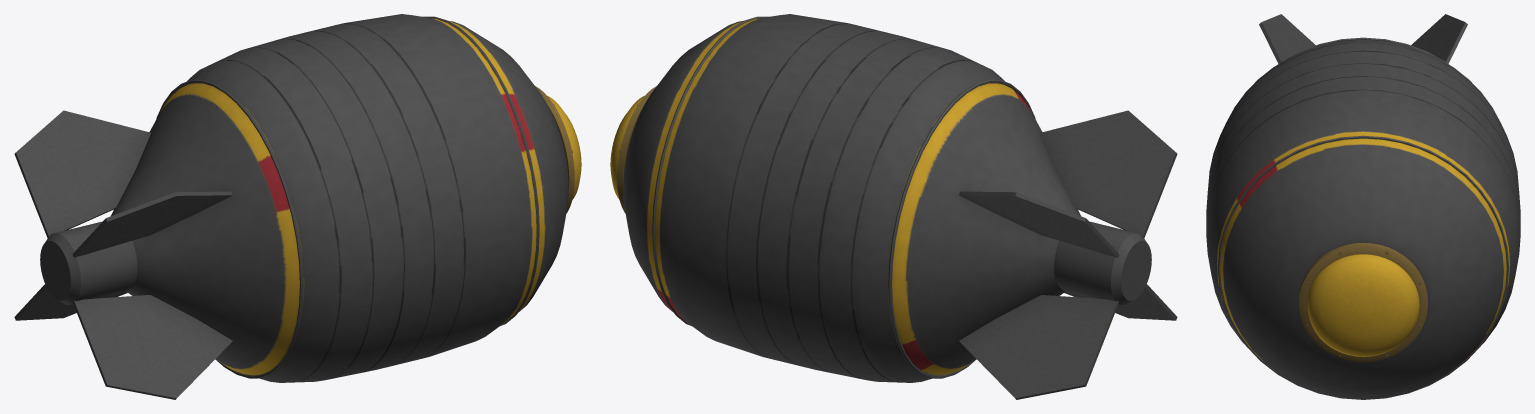
The model's file is bomb.glb.
3 views of the same model, side by side, from view 1: azimuth 30°, elevation 25°; view 2: azimuth 150°, elevation 25°; view 3: azimuth 270°, elevation 25° (orthographic). The views are drawn at different scales.
Parts seen in each view (by area): view 1: bomb_MaterialGroup_03, bomb_MaterialGroup_02.002, bomb_MaterialGroup_02.004, bomb_MaterialGroup_02, bomb_MaterialGroup_02.003, Curved casing band, bomb_MaterialGroup_02.001, Curved casing band.001, bomb_MaterialGroup_01, bomb_MaterialGroup_00; view 2: bomb_MaterialGroup_03, bomb_MaterialGroup_02.001, bomb_MaterialGroup_02.003, bomb_MaterialGroup_02, bomb_MaterialGroup_02.004, Curved casing band, bomb_MaterialGroup_02.002, Curved casing band.001, bomb_MaterialGroup_01, bomb_MaterialGroup_00; view 3: bomb_MaterialGroup_03, bomb_MaterialGroup_00, bomb_MaterialGroup_01, Curved casing band.001, bomb_MaterialGroup_02.003, bomb_MaterialGroup_02.004, Curved casing band.
Part boxes in pixels (left/top/right/bottom): bomb_MaterialGroup_03: left=110, top=14, right=568, bottom=382; bomb_MaterialGroup_02.002: left=72, top=295, right=232, bottom=399; bomb_MaterialGroup_02.004: left=14, top=110, right=150, bottom=238; bomb_MaterialGroup_02: left=40, top=221, right=137, bottom=304; bomb_MaterialGroup_02.003: left=72, top=191, right=232, bottom=257; Curved casing band: left=156, top=79, right=303, bottom=378; bomb_MaterialGroup_02.001: left=14, top=284, right=127, bottom=320; Curved casing band.001: left=423, top=16, right=539, bottom=325; bomb_MaterialGroup_01: left=535, top=86, right=574, bottom=213; bomb_MaterialGroup_00: left=547, top=95, right=581, bottom=199; bomb_MaterialGroup_03: left=623, top=14, right=1081, bottom=382; bomb_MaterialGroup_02.001: left=959, top=295, right=1119, bottom=399; bomb_MaterialGroup_02.003: left=1041, top=110, right=1177, bottom=238; bomb_MaterialGroup_02: left=1054, top=221, right=1151, bottom=304; bomb_MaterialGroup_02.004: left=959, top=191, right=1119, bottom=257; Curved casing band: left=888, top=79, right=1035, bottom=378; bomb_MaterialGroup_02.002: left=1064, top=284, right=1177, bottom=320; Curved casing band.001: left=652, top=16, right=768, bottom=325; bomb_MaterialGroup_01: left=617, top=86, right=656, bottom=213; bomb_MaterialGroup_00: left=610, top=95, right=644, bottom=199; bomb_MaterialGroup_03: left=1206, top=39, right=1520, bottom=399; bomb_MaterialGroup_00: left=1307, top=254, right=1419, bottom=356; bomb_MaterialGroup_01: left=1299, top=242, right=1427, bottom=362; Curved casing band.001: left=1217, top=135, right=1509, bottom=399; bomb_MaterialGroup_02.003: left=1259, top=14, right=1315, bottom=63; bomb_MaterialGroup_02.004: left=1411, top=14, right=1467, bottom=63; Curved casing band: left=1279, top=37, right=1447, bottom=63.
Size of the model in its own units: 2.87 by 1.68 by 1.68.
1 material, 1 textured.
